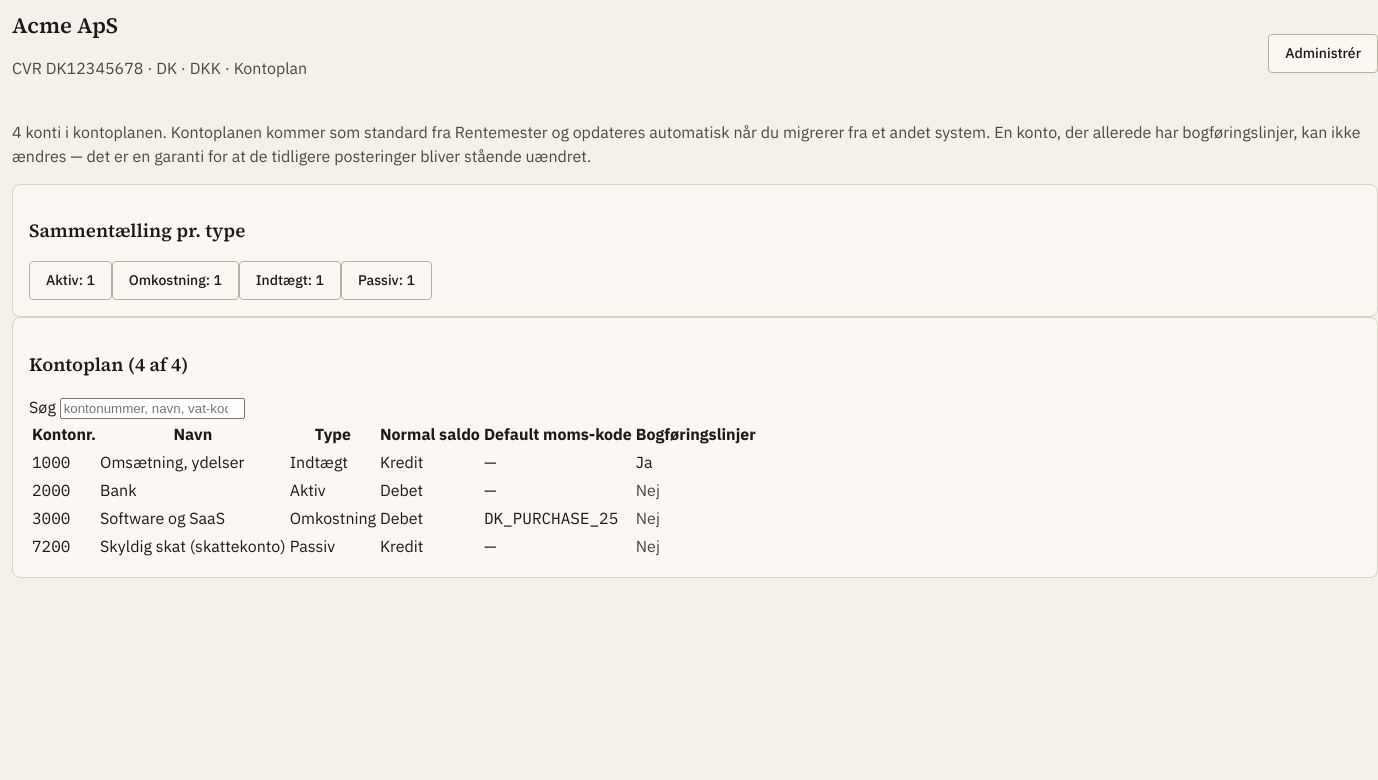
AccountsView (#344) › viser type-summary med klik-til-filter
Check: the button "Indtægt: 1" is shown, box top-left (239, 261), bottom-right (341, 300)
# Klik filter til 'asset'
Click the button "Aktiv: 1" at (70, 281), box top-left (29, 261), bottom-right (112, 300)
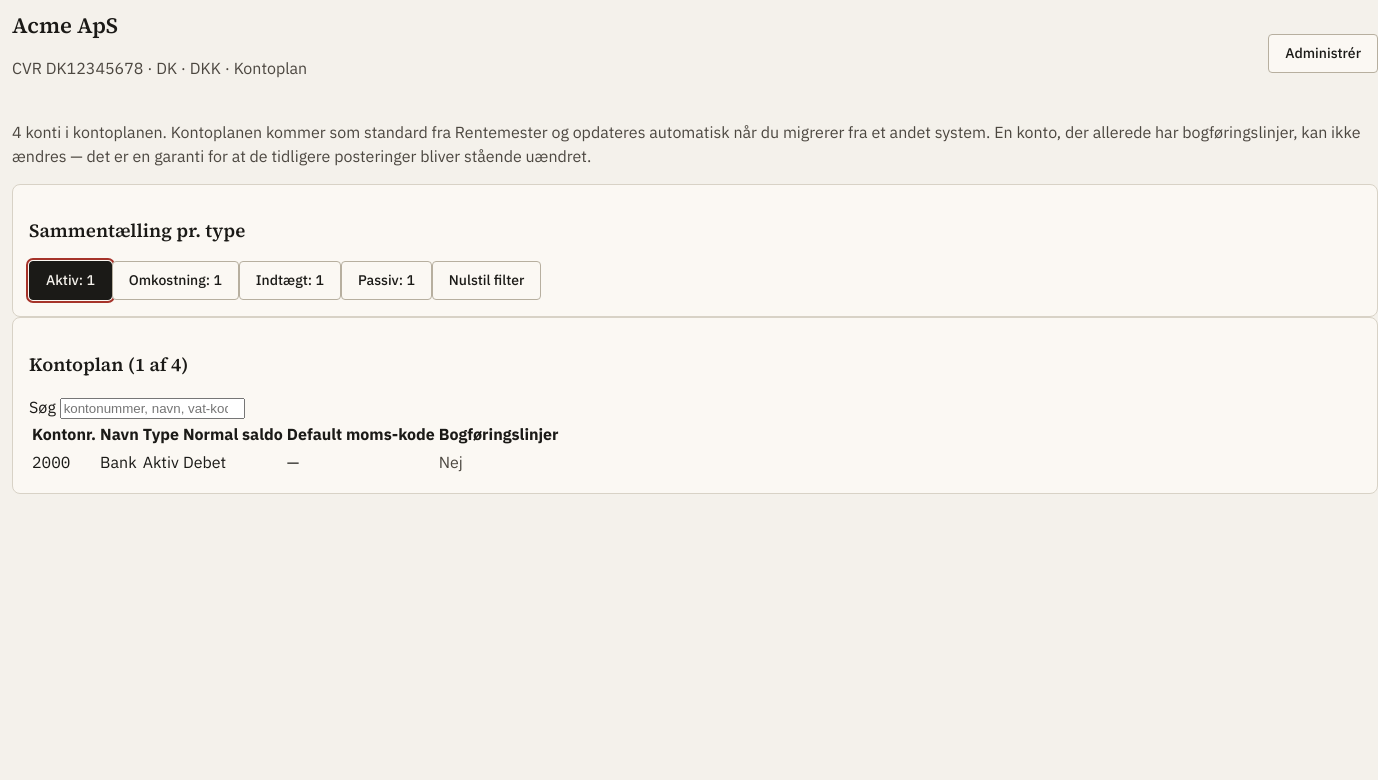
Check: the text "Bank" is shown, box top-left (99, 449), bottom-right (140, 475)
Check: the text "Omsætning, ydelser" is gone
